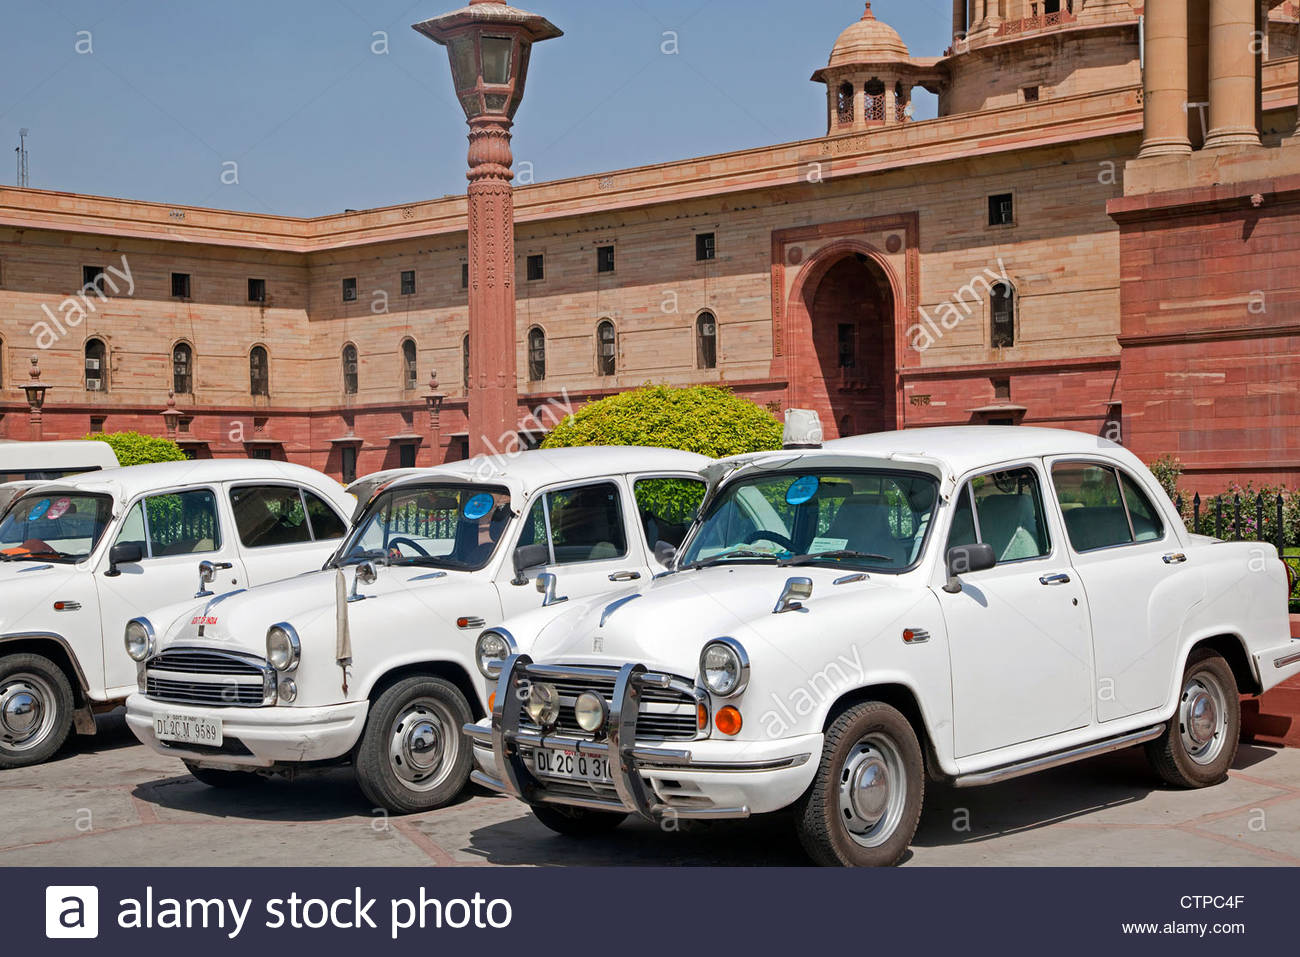car: (478, 428, 1291, 837), (125, 427, 852, 787), (1, 439, 439, 781)
